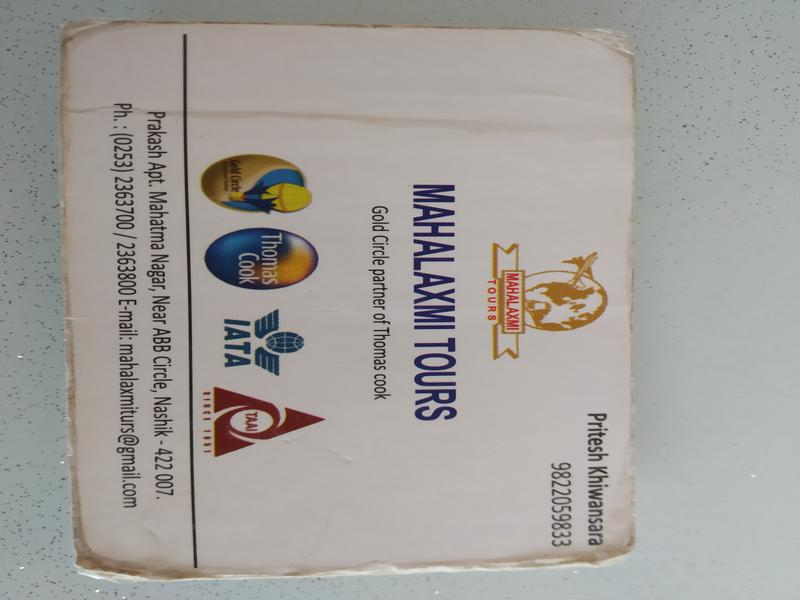card: (62, 25, 635, 580)
